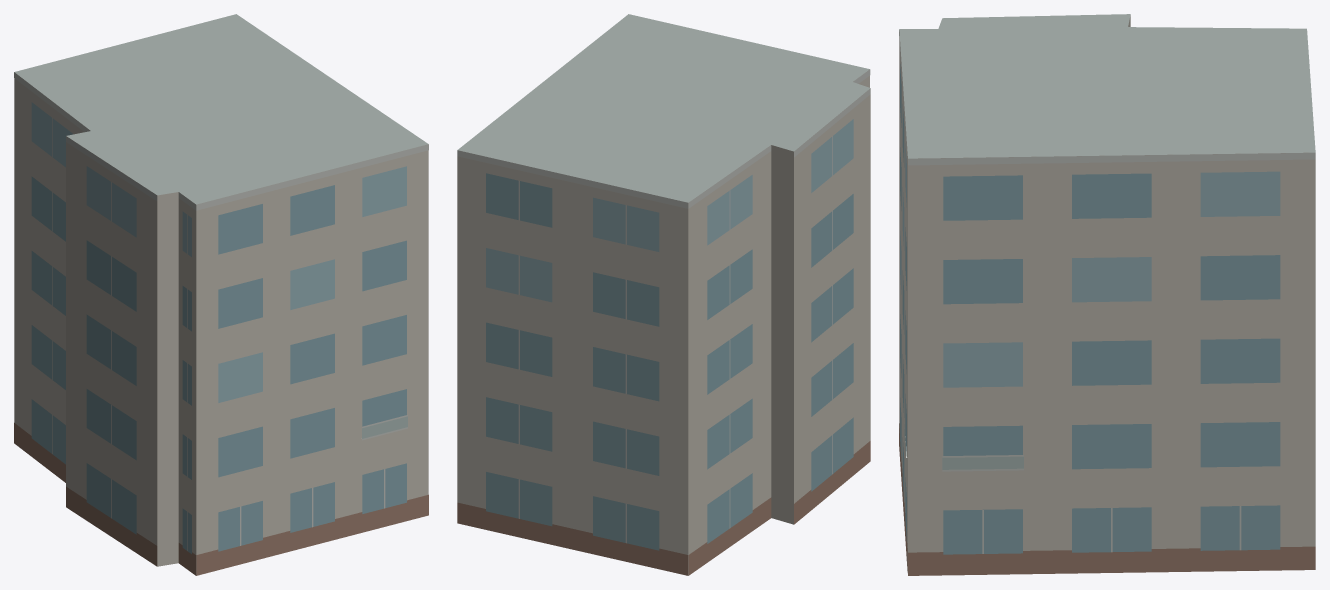
The model's file is survey-upis-32974473.glb.
3 renders of one model, left to right at view 1: azimuth 30°, elevation 25°; view 2: azimuth 150°, elevation 25°; view 3: azimuth 270°, elevation 25°, orthographic. The views are drawn at different scales.
Parts seen in each view (by area): view 1: survey-upis-32974473.tmp; view 2: survey-upis-32974473.tmp; view 3: survey-upis-32974473.tmp.
Boxes of the visible parts, <box> form: survey-upis-32974473.tmp: <box>14,14,428,575</box>; survey-upis-32974473.tmp: <box>457,14,870,575</box>; survey-upis-32974473.tmp: <box>899,14,1315,575</box>.
Bounding box in the file's own units: 11.01 × 14.8 × 13.4.
